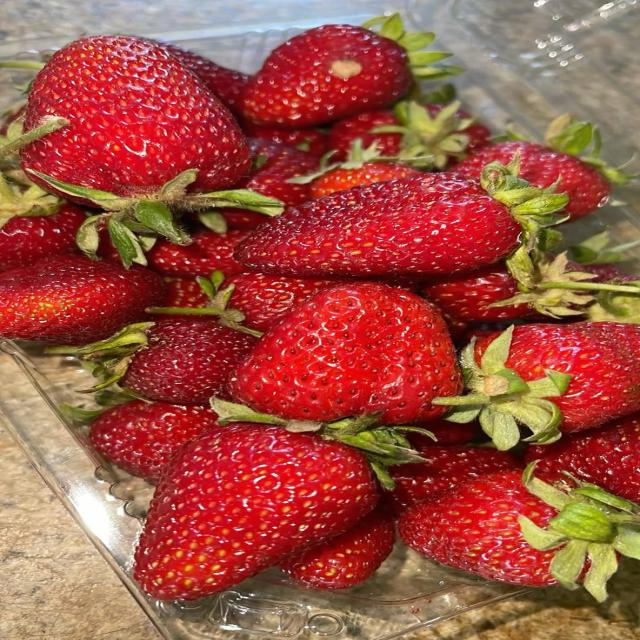strawberry: (14, 36, 280, 265), (134, 423, 378, 599), (21, 36, 250, 198), (236, 164, 566, 276), (231, 283, 461, 423), (400, 468, 639, 600), (435, 322, 639, 449), (243, 15, 450, 128), (50, 310, 256, 404), (453, 115, 629, 219), (0, 255, 165, 344), (423, 253, 633, 322), (151, 272, 357, 334), (453, 141, 610, 218), (123, 318, 256, 404), (330, 102, 490, 168), (89, 401, 217, 483), (385, 442, 523, 514), (526, 414, 639, 501), (280, 509, 395, 590), (0, 167, 86, 270), (225, 272, 346, 331), (295, 141, 420, 198), (422, 263, 540, 321), (160, 44, 249, 113), (234, 138, 318, 206), (235, 138, 318, 206), (0, 205, 86, 270), (147, 229, 251, 277), (311, 162, 419, 198), (329, 110, 401, 159), (242, 121, 329, 157), (407, 418, 482, 449), (161, 278, 210, 308), (164, 278, 208, 307), (215, 208, 266, 232), (580, 264, 636, 282)
